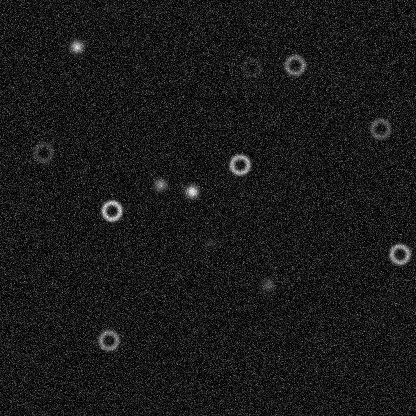Ring: (368, 116, 392, 140), (239, 55, 263, 79), (99, 198, 123, 222), (227, 152, 251, 176), (31, 140, 55, 164), (387, 242, 411, 266), (96, 328, 120, 352), (282, 53, 306, 77)
Spot: (183, 183, 199, 199), (201, 235, 217, 251), (152, 176, 168, 192), (68, 38, 84, 54), (259, 277, 275, 293)
